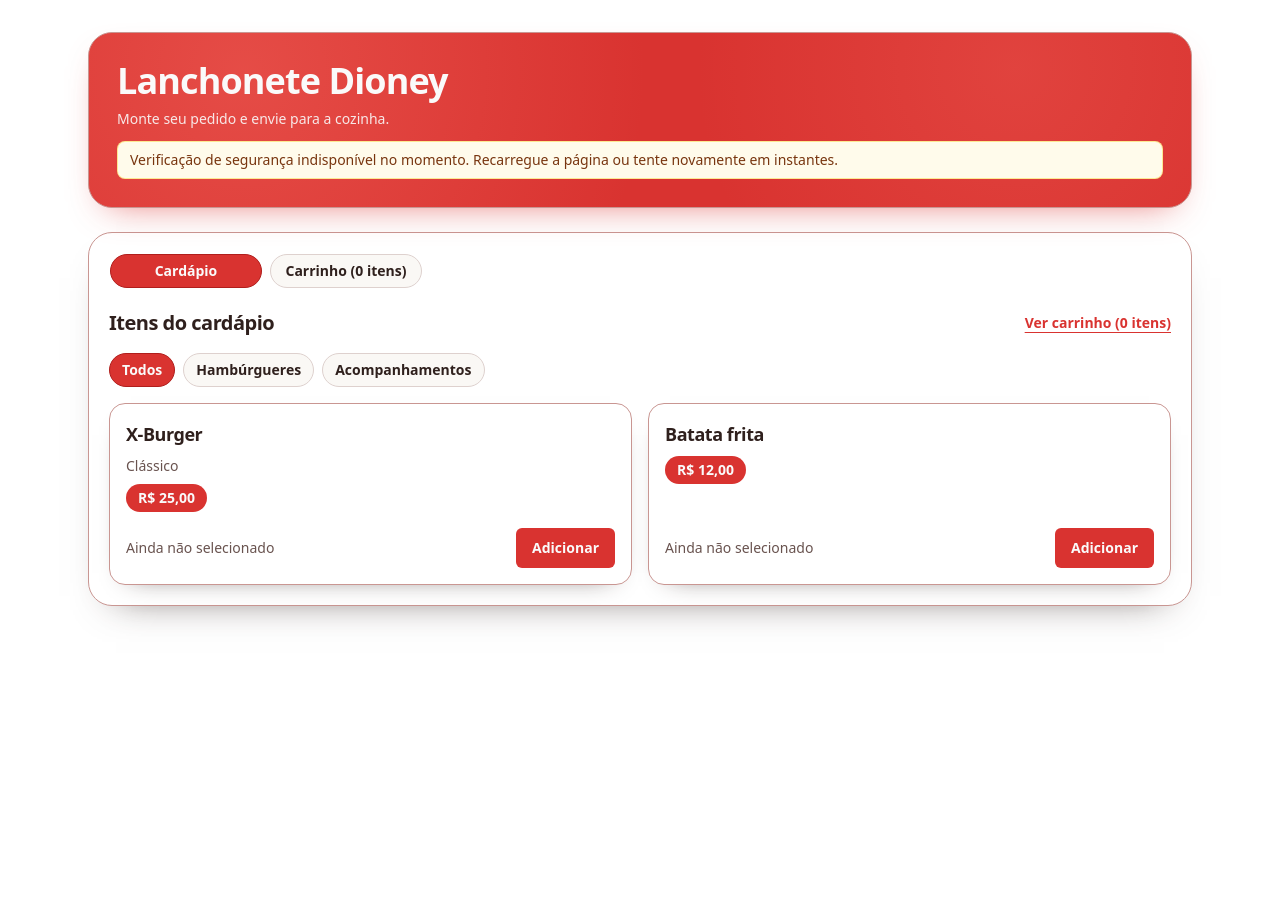
it: CustomerOrderPage (Customer Order Submission) › shows CAPTCHA setup warning and disables submit when CAPTCHA is required but site key is missing
The image size is (1280, 900).
Step 1. Click the 1st button "Adicionar" → click(566, 548), box x1=516 y1=528 x2=615 y2=568
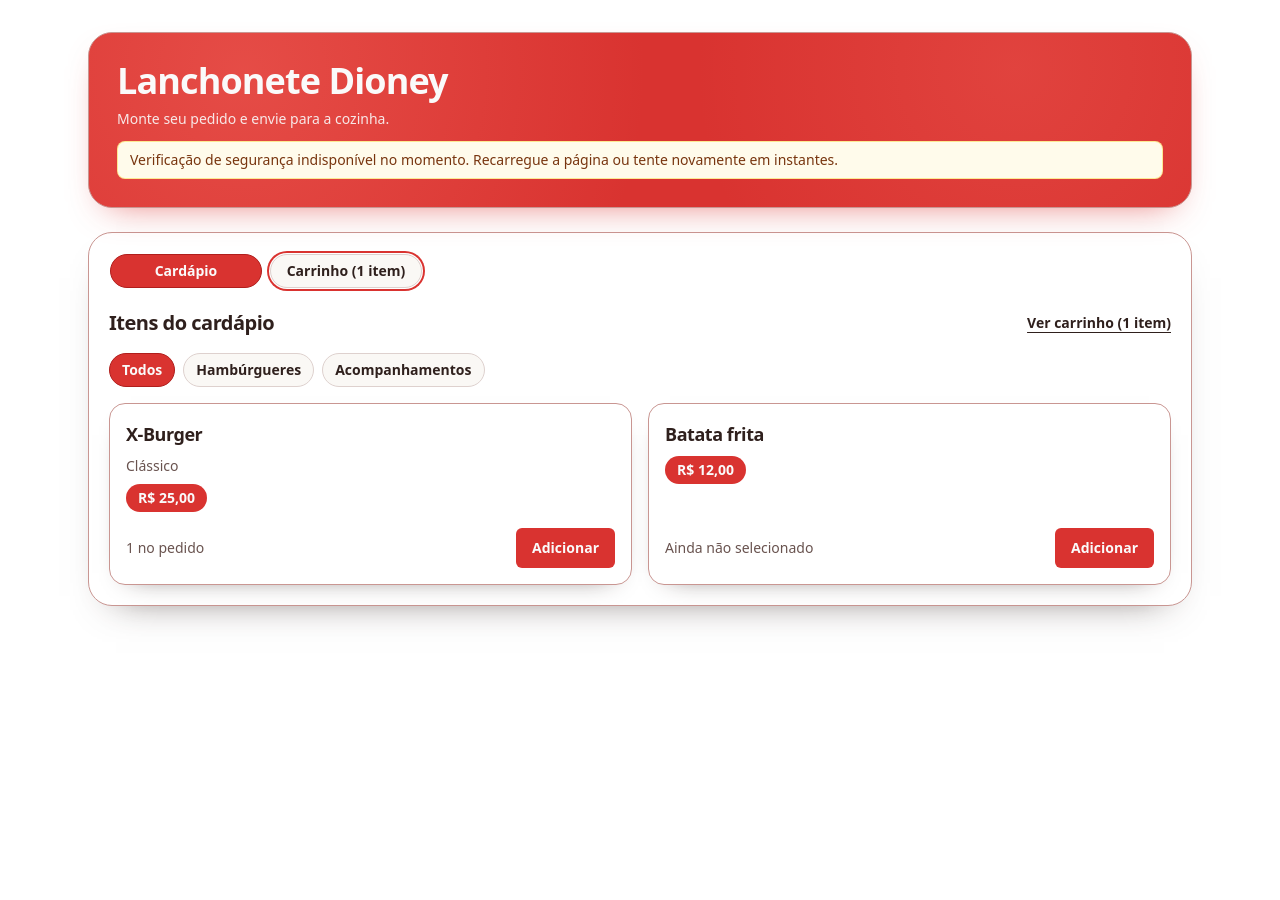
Step 2. Click the button "Ver carrinho (1 item)" → click(1099, 323), box x1=1027 y1=313 x2=1171 y2=333
(page scrolled)
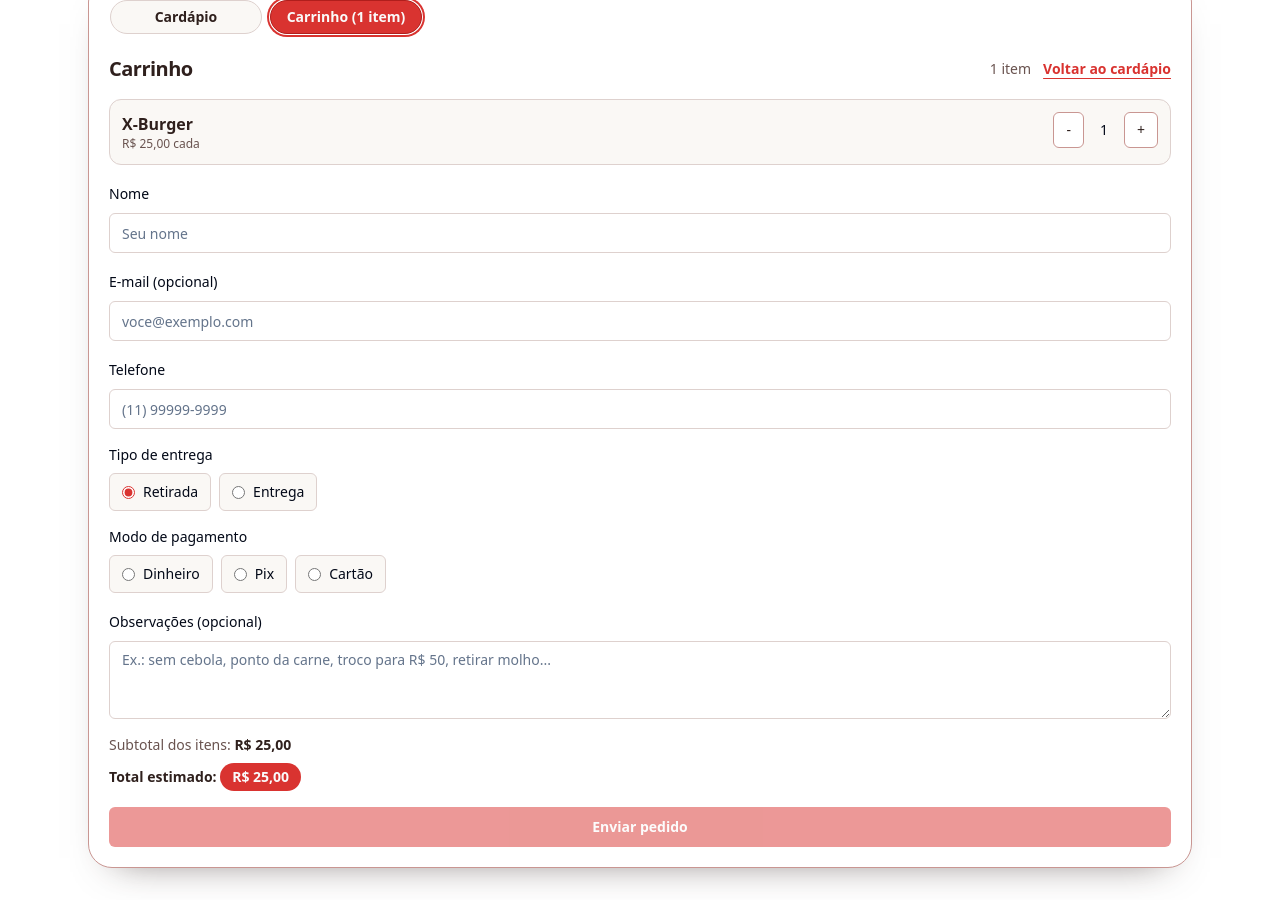
Result: the button "Enviar pedido" is disabled at x1=109 y1=807 x2=1171 y2=847
